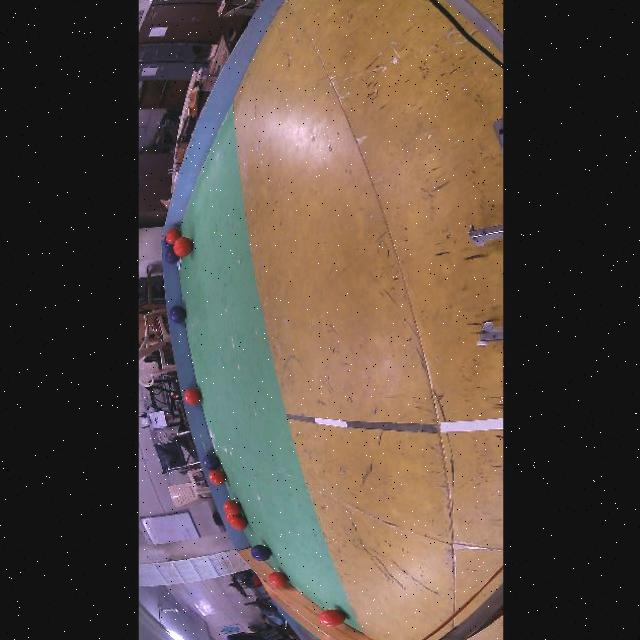P: (250, 545, 271, 562), (168, 306, 186, 323), (201, 455, 219, 471), (164, 247, 179, 264), (162, 239, 172, 249)
R: (317, 609, 344, 626), (172, 236, 192, 257), (207, 469, 225, 486), (183, 388, 200, 405), (164, 228, 181, 245), (267, 572, 286, 587), (223, 500, 240, 516), (229, 516, 247, 530), (224, 514, 233, 523)
